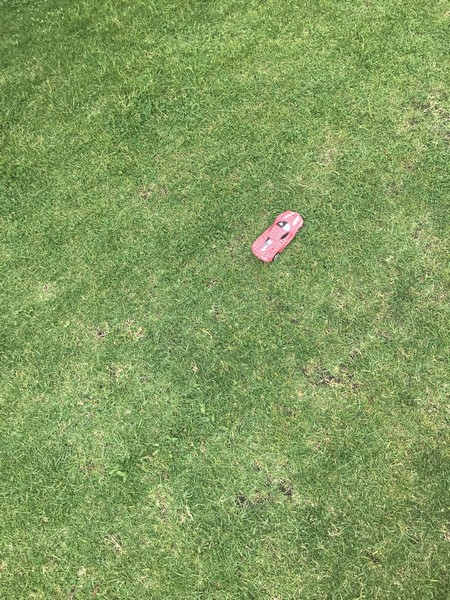RC: (250, 210, 307, 263)
